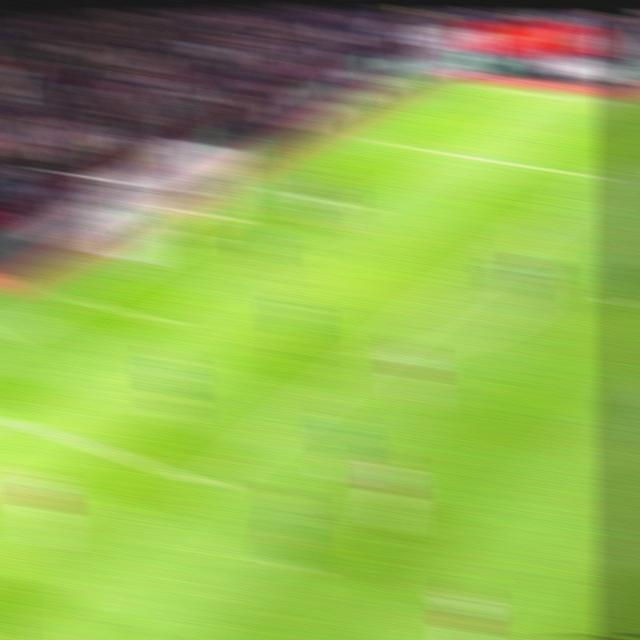bigarea_bottom_inner: (184, 464, 232, 503)
bigarea_top_inner: (583, 164, 624, 189)
bigarea_top_outter: (351, 127, 388, 148)
bottom_arc_area_intersection: (350, 342, 390, 369)
corner: (447, 75, 487, 95)
smallarea_bottom_inner: (139, 302, 184, 337)
smallarea_bottom_outter: (61, 284, 100, 310)
smallarea_top_inner: (332, 192, 371, 218)
smallarea_top_outter: (260, 179, 298, 200)
top_arc_area_intersection: (490, 238, 528, 259)
